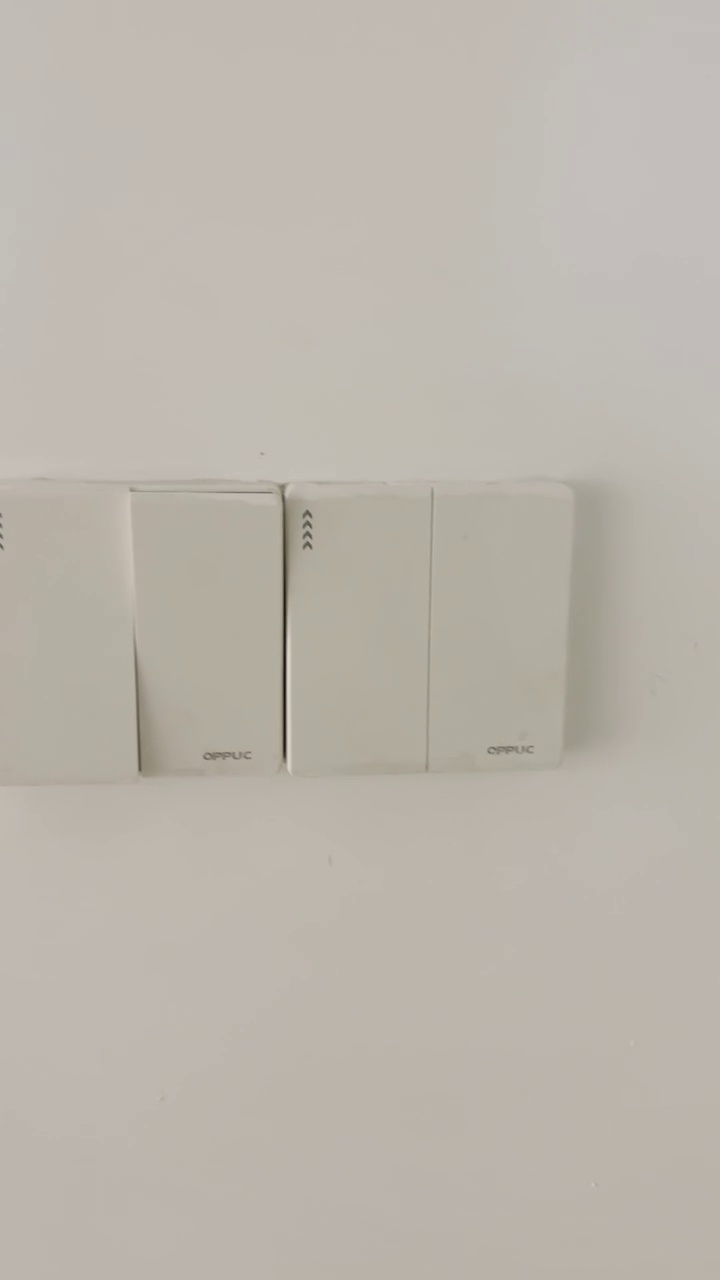button1: (137, 497, 279, 771), (290, 492, 430, 767), (0, 496, 129, 770), (436, 498, 565, 761)
